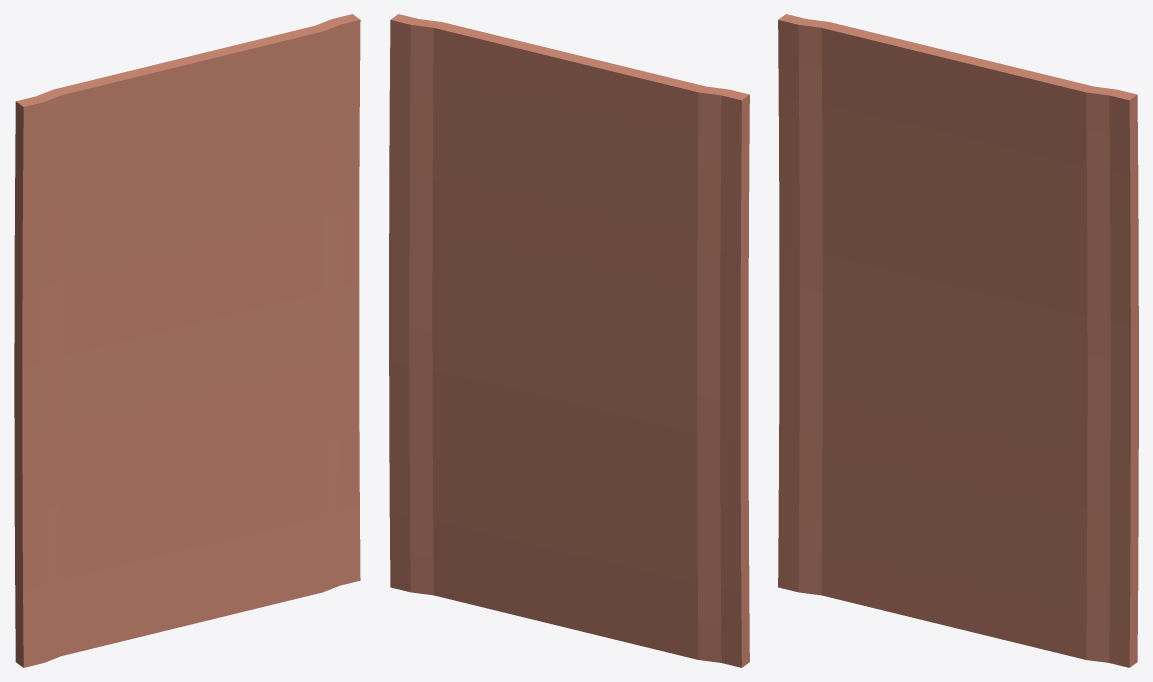
File: flachdachziegel.glb
3 views of the same model, side by side, from view 1: azimuth 30°, elevation 25°; view 2: azimuth 150°, elevation 25°; view 3: azimuth 330°, elevation 25° (orthographic).
Parts seen in each view (by area): view 1: world; view 2: world; view 3: world.
Boxes of the visible parts, x1,y1,x2,y2 form: world: (14,14,360,667); world: (389,14,749,667); world: (778,14,1138,667).
Bounding box in the file's own units: 0.3 × 0.47 × 0.022.
